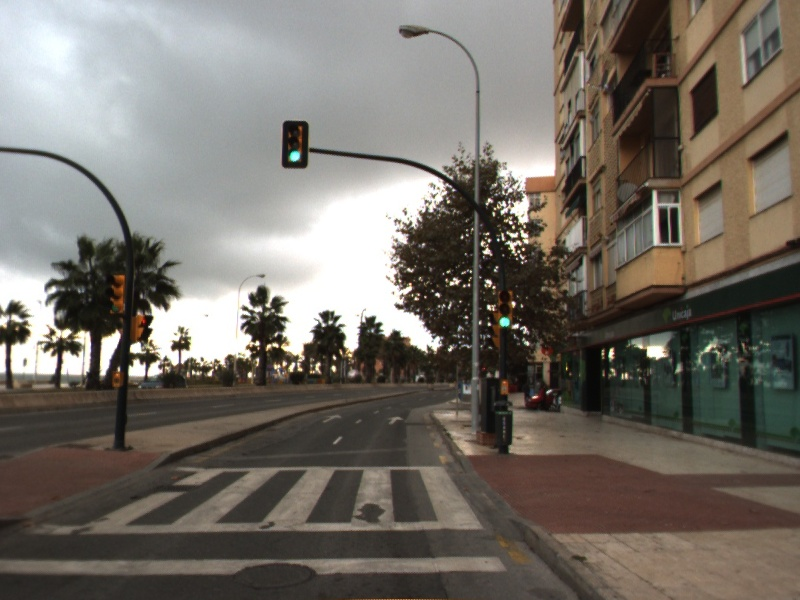STRAIGHT: (321, 413, 343, 424), (386, 415, 405, 426)
